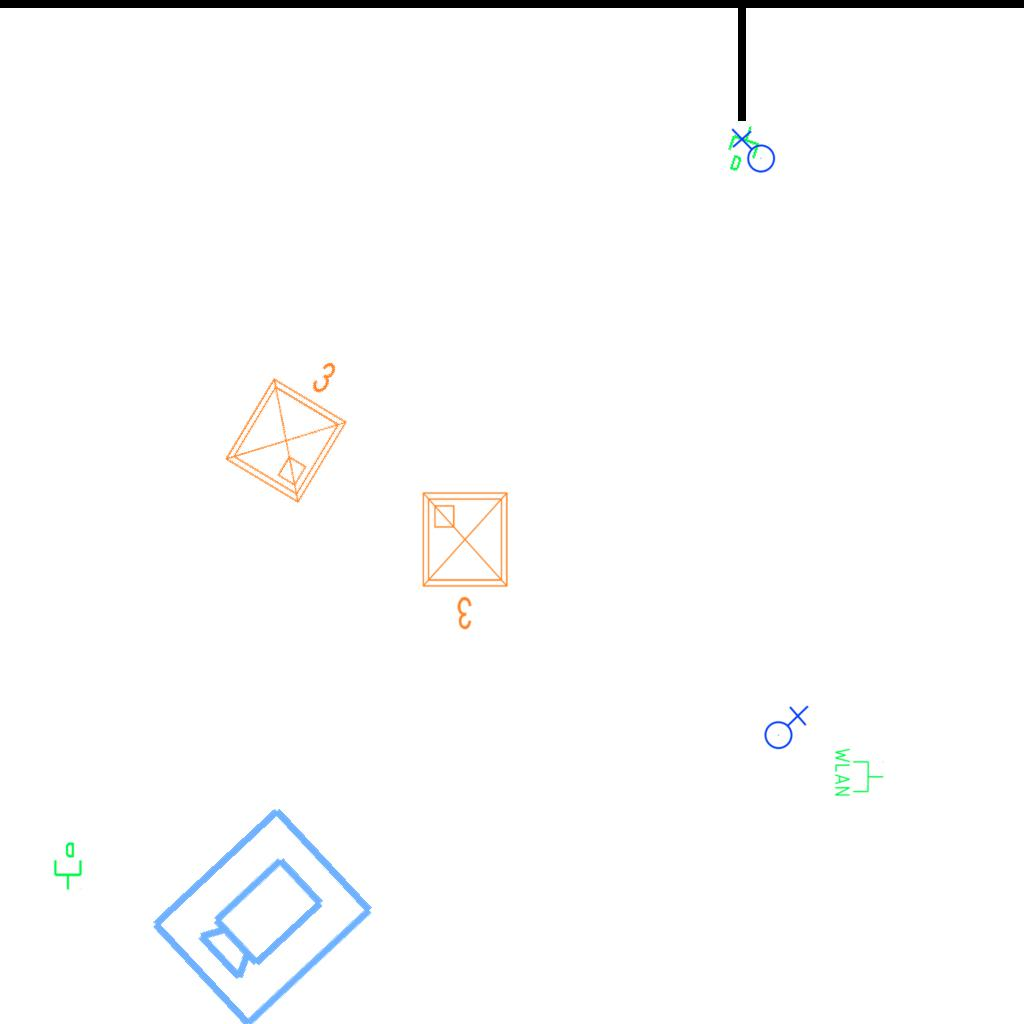Datenanschluss_einfach: (719, 119, 769, 179), (50, 841, 84, 891)
Einbaudownlights_LED_Konferenzraeume: (211, 330, 379, 514), (415, 485, 519, 635)
Elektroanschluss_allgemein_230V_Geraeteanschlussdose_230V: (760, 703, 809, 750), (729, 128, 776, 177)
KFO_Kamera_mit_Festobjektiv: (142, 797, 382, 1024)
WLAN: (833, 746, 885, 798)
